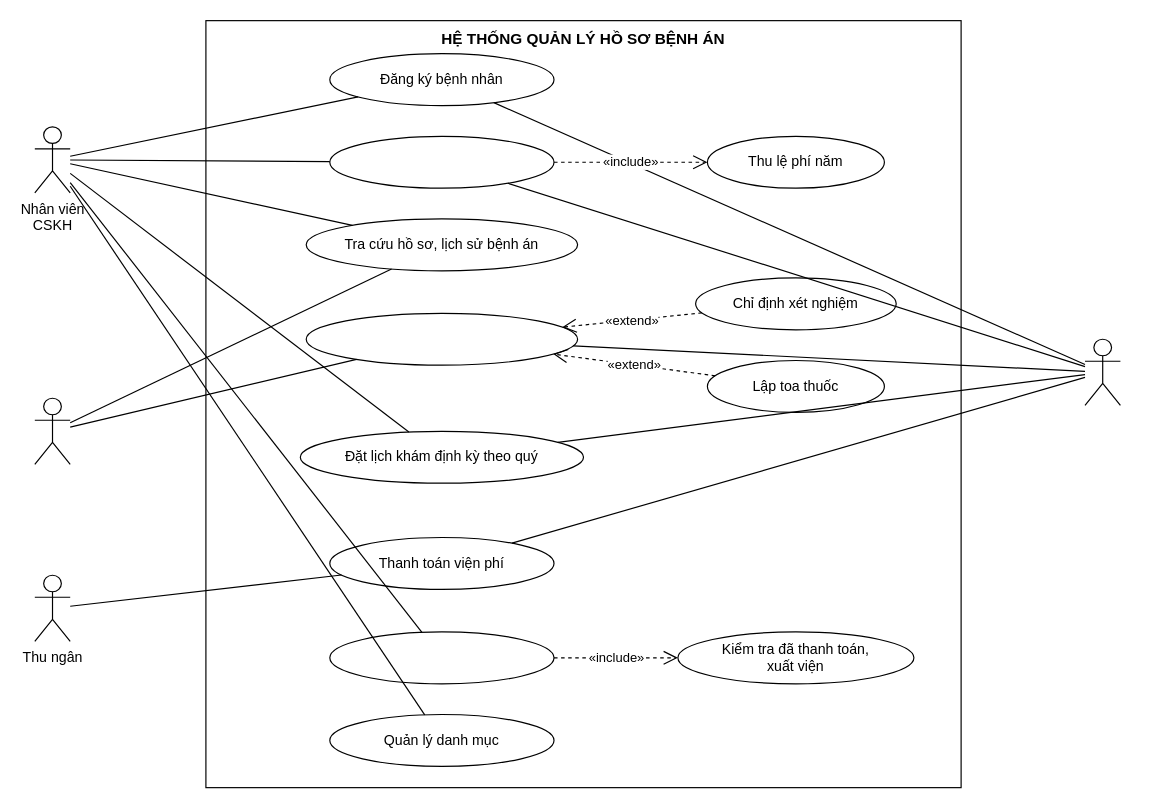
This 1156x808 diagram has some shape labels left out. Each missing label, with the centre of its shape:
Bác sĩ: (52,430)
Bệnh nhân: (1102,371)
Cấp hồ sơ bệnh án: (441,161)
Hoàn tất đợt điều trị: (441,657)
Khám bệnh (lập phiếu khám): (441,338)
